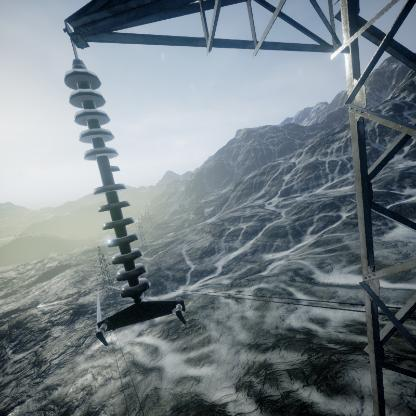insulator: (62, 58, 151, 300)
